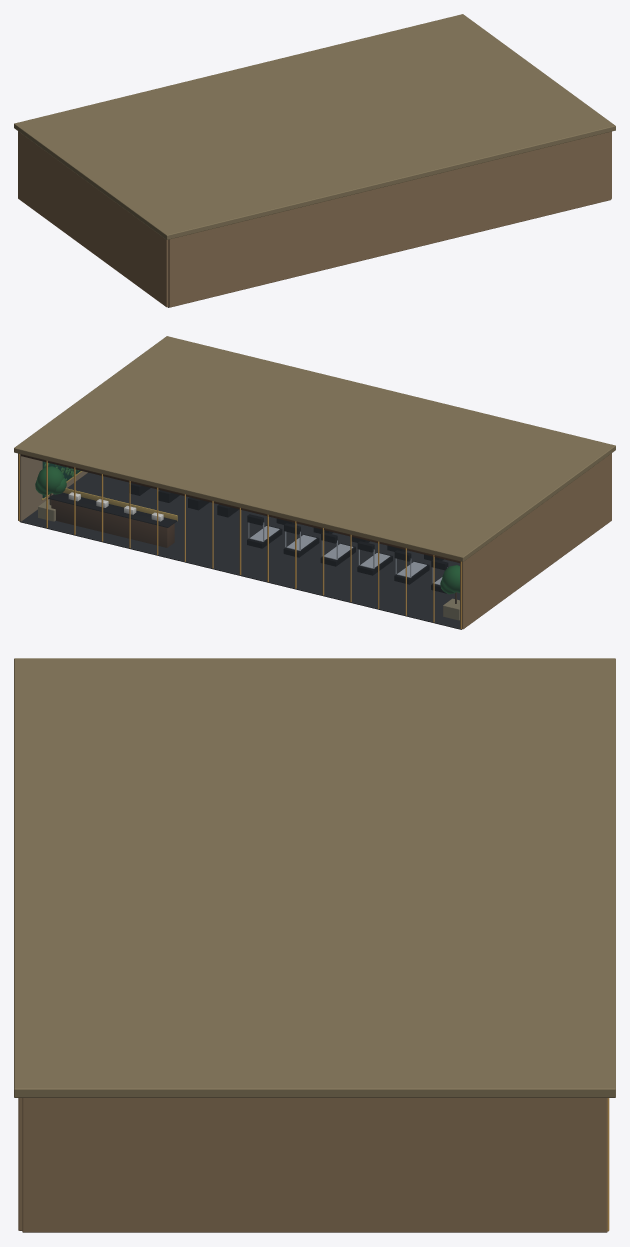
File: room_gym.glb
The picture shows the model from 3 angles, top to bottom: view 1: azimuth 30°, elevation 25°; view 2: azimuth 150°, elevation 25°; view 3: azimuth 270°, elevation 25°; orthographic projection. The views are drawn at different scales.
Parts seen in each view (by area): view 1: Pub3_Gym_stone, Pub3_Gym_wallp; view 2: Pub3_Gym_stone, Pub3_Gym_gclear, Pub3_Gym_rubber, Pub3_Gym_wallp, GmX_LuxFlutedWalnut, Pub3_Gym_black, Pub3_Gym_brass, Pub3_Gym_steel, Pub3_Gym_leaf, GmX_LuxMarbleBlack, GmX_LuxGold; view 3: Pub3_Gym_stone, Pub3_Gym_wallp.
Part boxes in pixels (left/top/right/bottom): Pub3_Gym_stone: left=14, top=14, right=615, bottom=239; Pub3_Gym_wallp: left=18, top=131, right=611, bottom=307; Pub3_Gym_stone: left=14, top=336, right=615, bottom=620; Pub3_Gym_gclear: left=21, top=456, right=459, bottom=628; Pub3_Gym_rubber: left=20, top=472, right=461, bottom=629; Pub3_Gym_wallp: left=18, top=453, right=611, bottom=629; GmX_LuxFlutedWalnut: left=21, top=454, right=460, bottom=563; Pub3_Gym_black: left=129, top=483, right=448, bottom=593; Pub3_Gym_brass: left=18, top=454, right=461, bottom=629; Pub3_Gym_steel: left=248, top=522, right=447, bottom=585; Pub3_Gym_leaf: left=35, top=466, right=459, bottom=594; GmX_LuxMarbleBlack: left=48, top=492, right=176, bottom=527; GmX_LuxGold: left=41, top=471, right=177, bottom=521; Pub3_Gym_stone: left=14, top=658, right=615, bottom=1097; Pub3_Gym_wallp: left=18, top=1098, right=607, bottom=1232.
Bounding box in the file's own units: 24.4 × 3.9 × 14.4.
